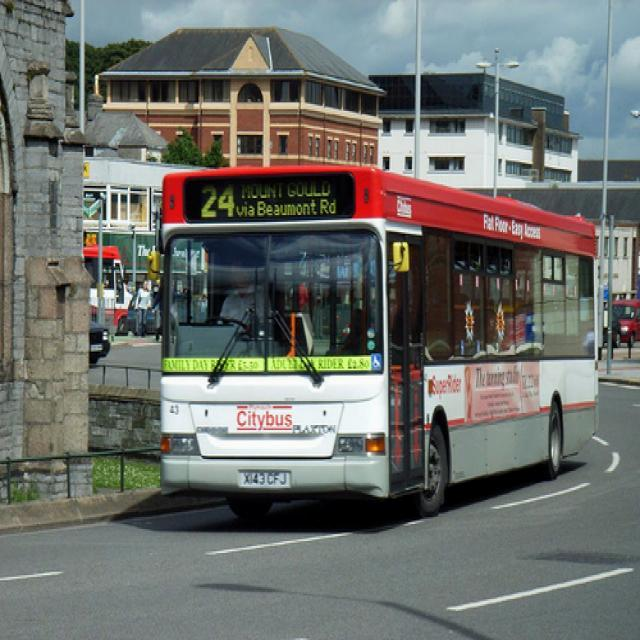bus: (150, 164, 599, 523)
